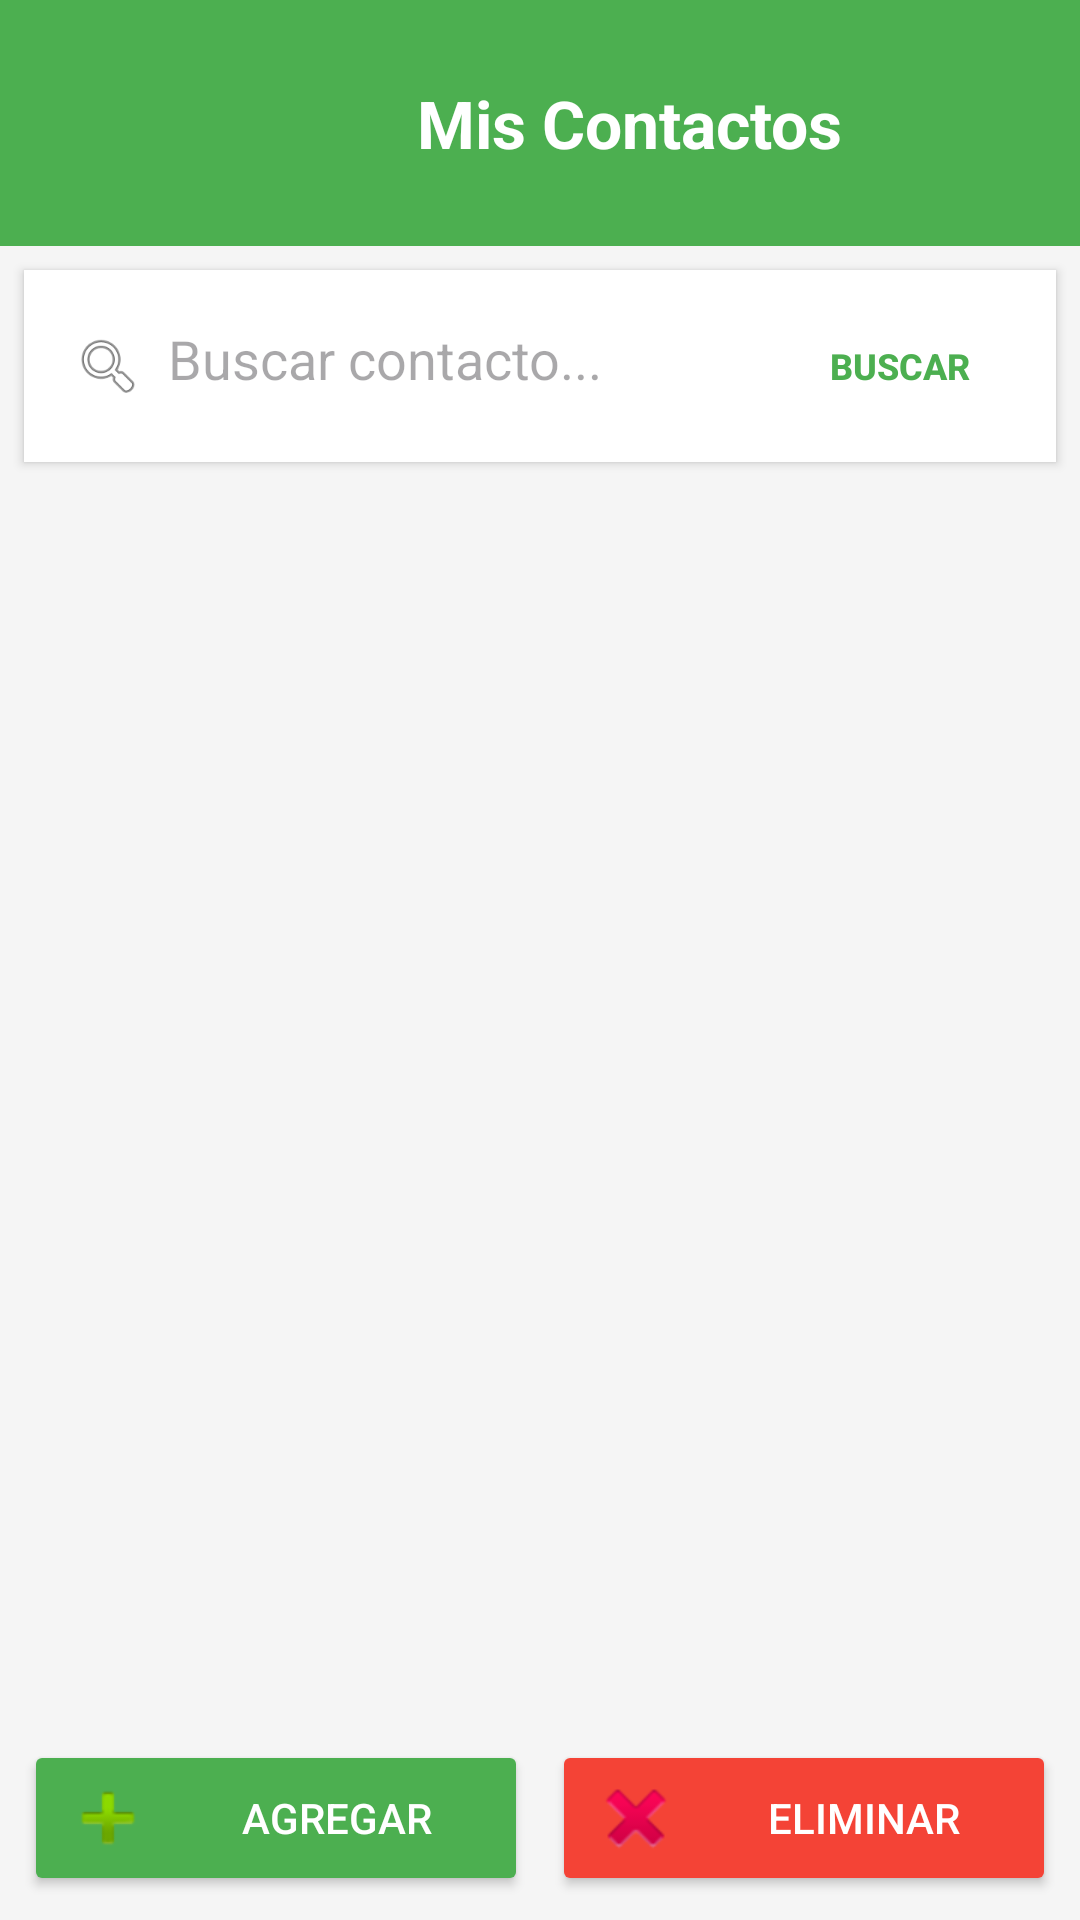

Named icons in this screenshot (1080*1920) and their bounding boxes, detection(x1, y1, x2, y2):
search: detection(81, 340, 135, 393)
